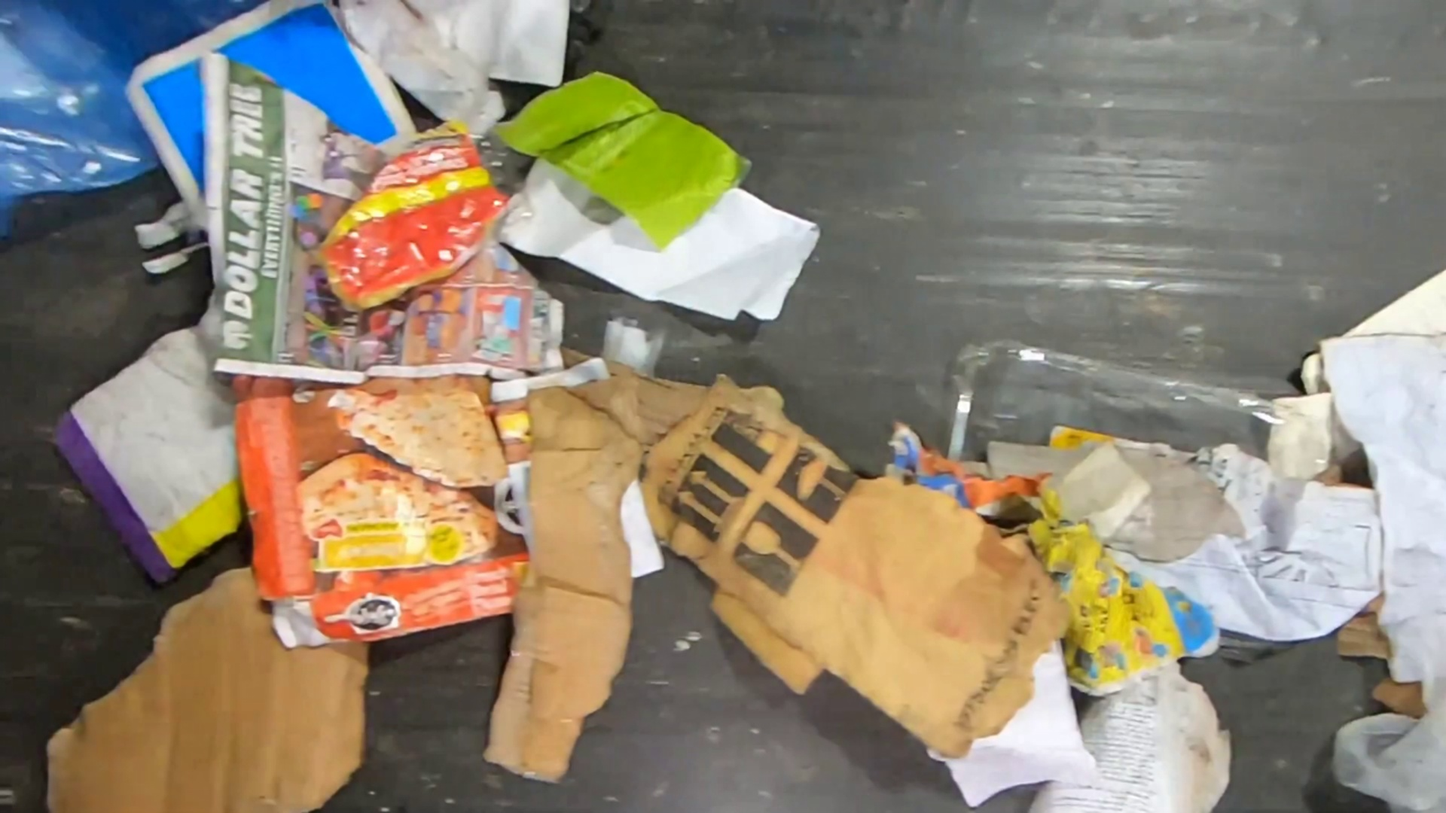cardboard: (478, 360, 713, 786), (42, 565, 373, 813), (233, 373, 530, 647), (46, 325, 244, 590), (705, 584, 827, 697), (1334, 589, 1394, 663), (1368, 674, 1425, 721)
plastic: (0, 0, 273, 241), (942, 336, 1336, 481), (307, 108, 537, 314), (1329, 678, 1446, 813)
